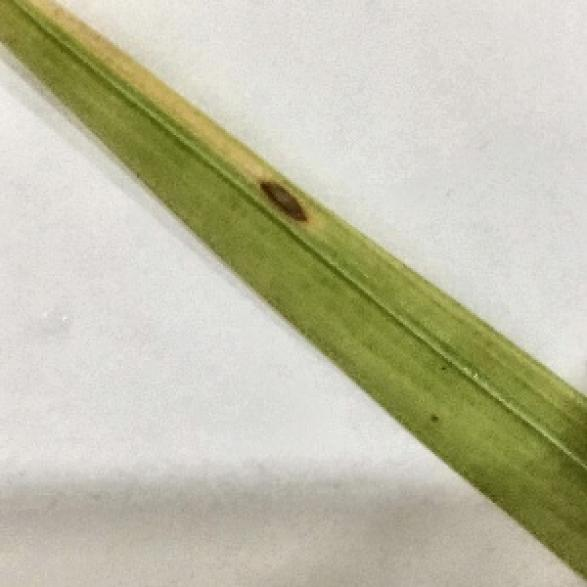Leaf_smut: (246, 168, 321, 247)
